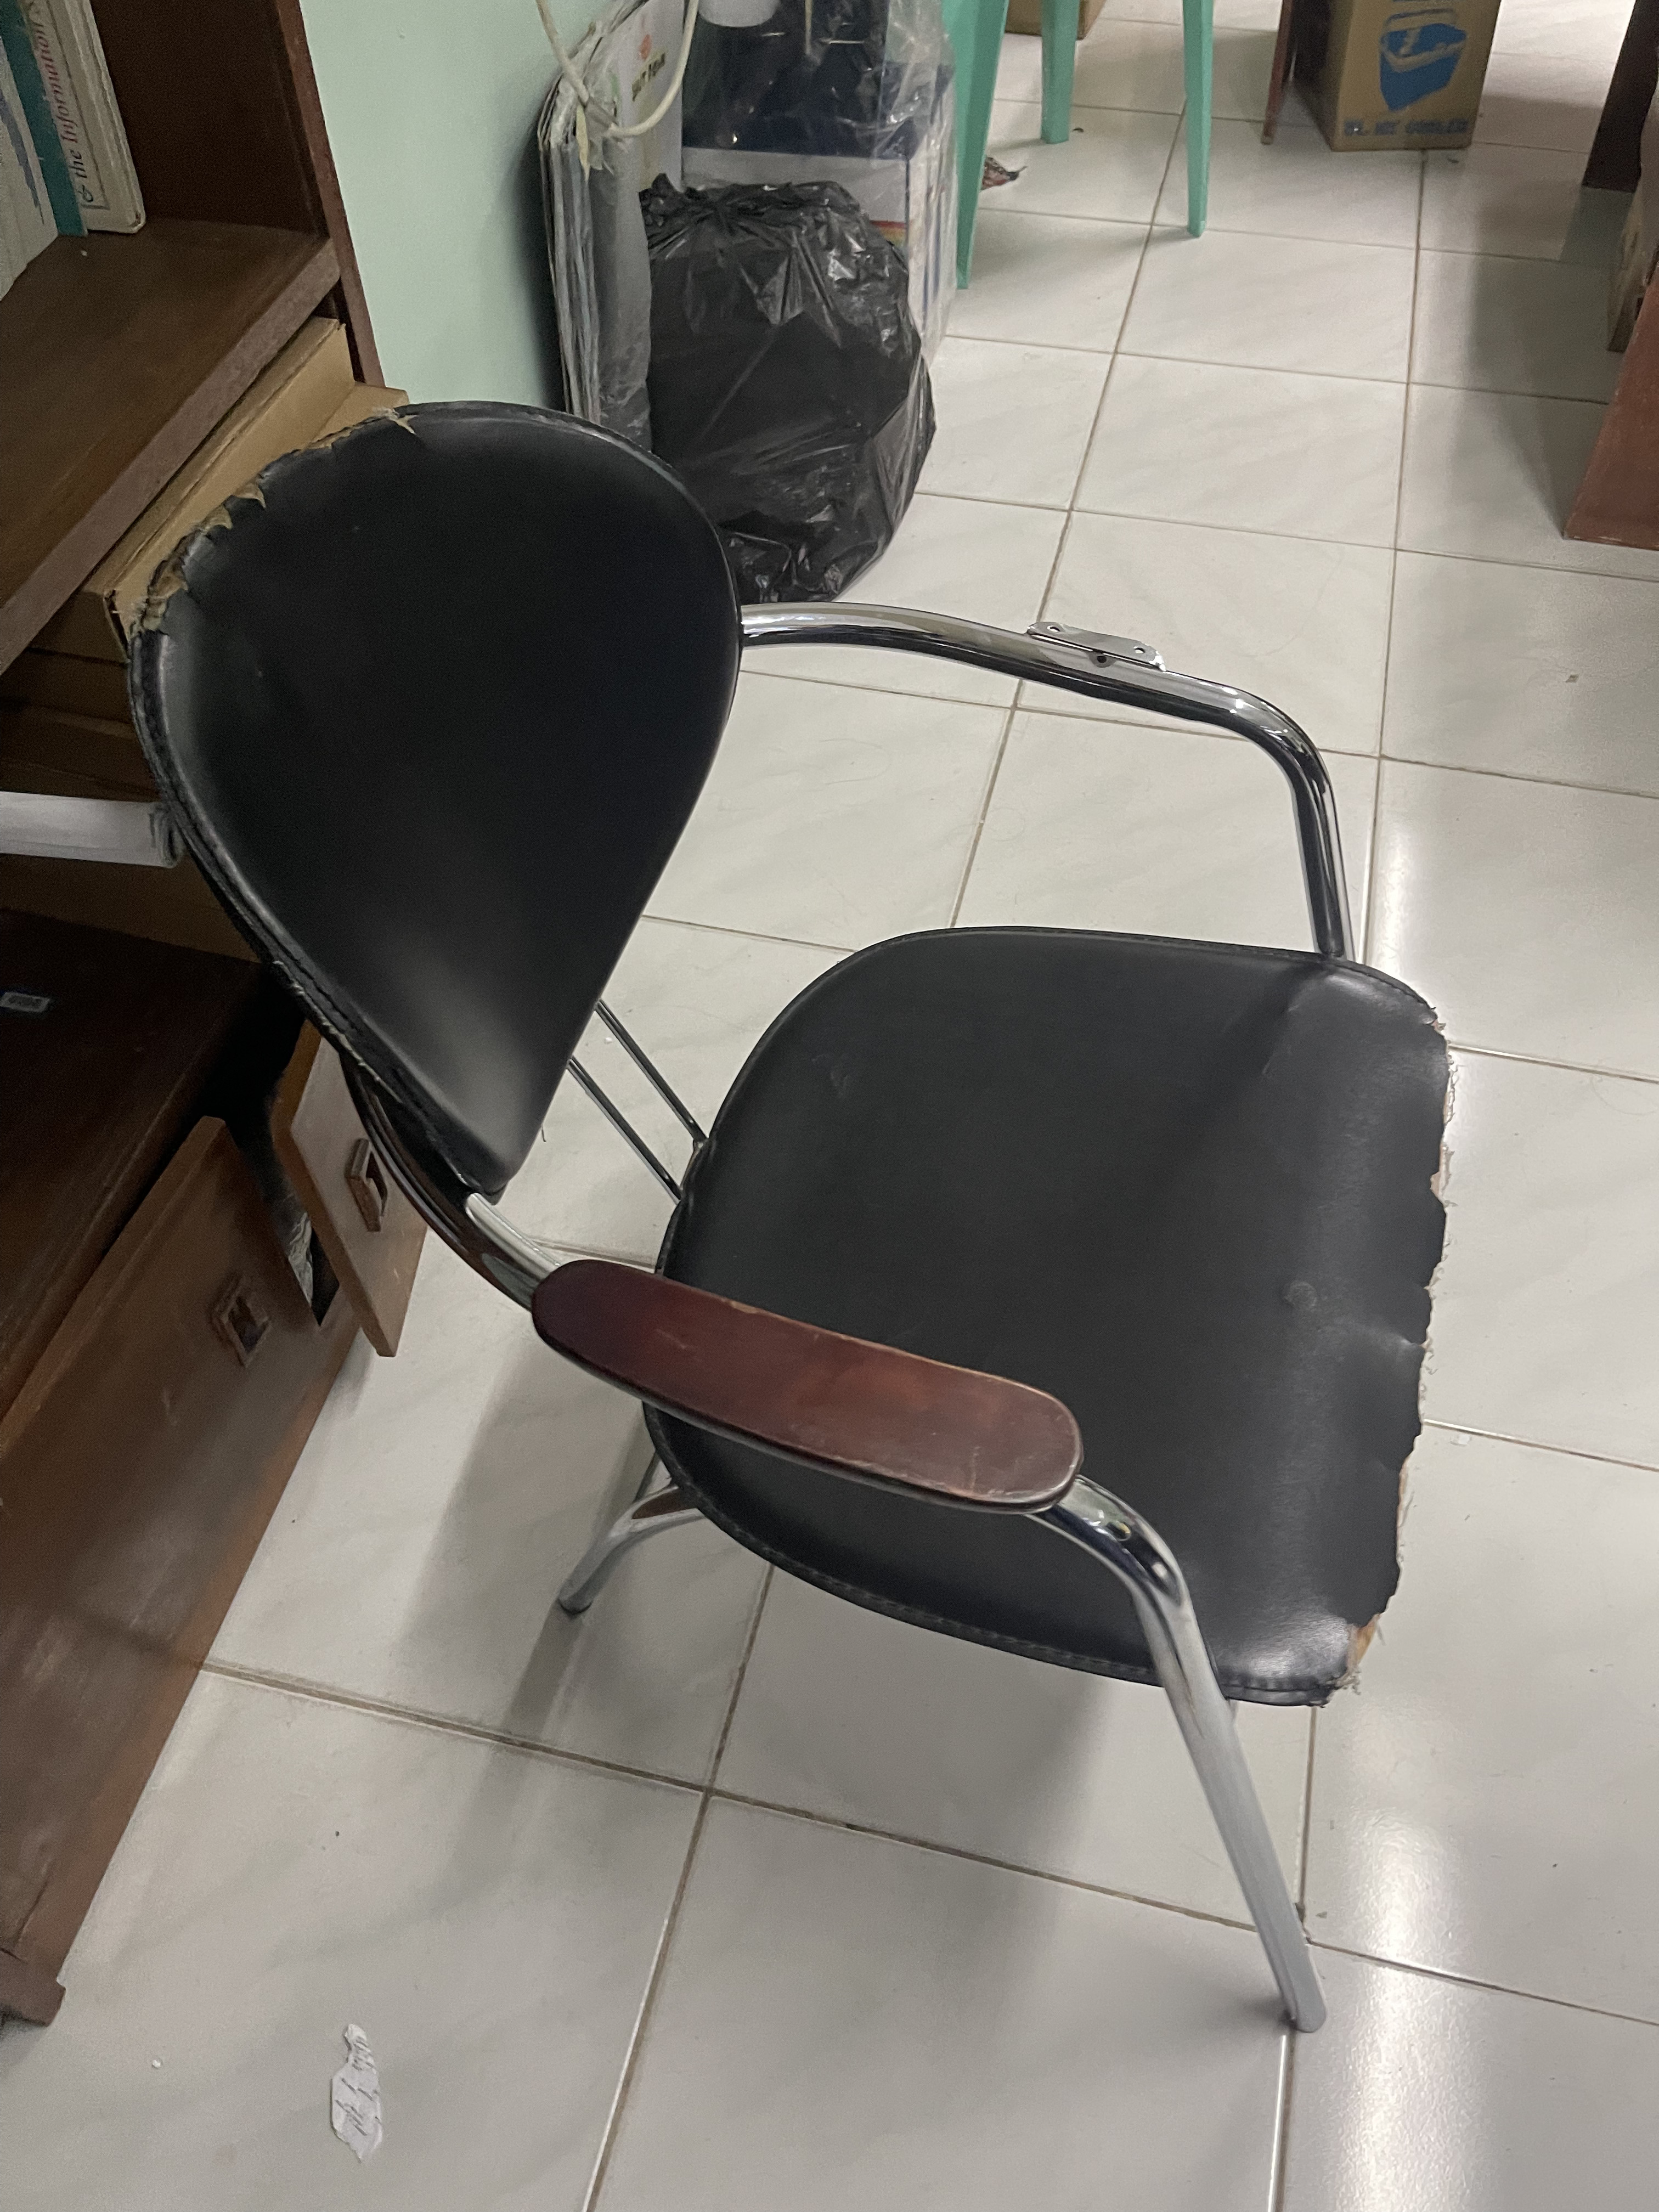chair1: (131, 397, 1457, 2048)
